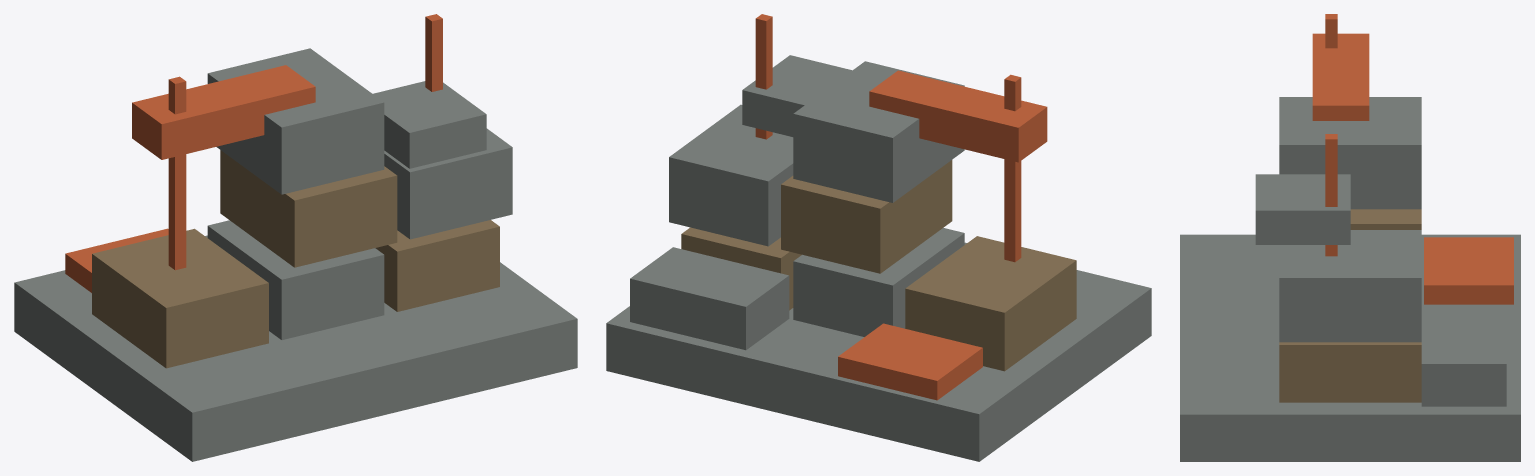
The model's file is base_ruin_1.glb.
The picture shows the model from 3 angles, left to right: view 1: azimuth 30°, elevation 25°; view 2: azimuth 150°, elevation 25°; view 3: azimuth 270°, elevation 25°; orthographic projection. The views are drawn at different scales.
Visible parts, largest first — view 1: footing.001, masonry.008, masonry.015, masonry.012, masonry.009, broken_cap.002, masonry.013, masonry.010, broken_cap.003, rebar.002, loose_brick, rebar.003; view 2: footing.001, masonry.008, masonry.015, masonry.013, masonry.012, fallen_stone.001, broken_cap.002, masonry.009, loose_brick, broken_cap.003, masonry.010, rebar.002 (+1 smaller); view 3: footing.001, masonry.013, masonry.015, masonry.010, fallen_stone.001, broken_cap.003, loose_brick, broken_cap.002, masonry.012, rebar.003, rebar.002.
Part boxes in pixels (bbox=[...]): footing.001: bbox=[14, 235, 577, 461]; masonry.008: bbox=[92, 228, 268, 368]; masonry.015: bbox=[207, 48, 384, 194]; masonry.012: bbox=[220, 150, 397, 267]; masonry.009: bbox=[207, 220, 384, 339]; broken_cap.002: bbox=[132, 65, 315, 159]; masonry.013: bbox=[384, 128, 512, 239]; masonry.010: bbox=[375, 220, 499, 311]; broken_cap.003: bbox=[373, 81, 486, 168]; rebar.002: bbox=[168, 76, 186, 270]; loose_brick: bbox=[65, 228, 168, 292]; rebar.003: bbox=[425, 14, 442, 91]; footing.001: bbox=[606, 242, 1151, 461]; masonry.008: bbox=[905, 236, 1076, 371]; masonry.015: bbox=[793, 61, 964, 202]; masonry.013: bbox=[669, 104, 793, 246]; masonry.012: bbox=[781, 160, 952, 273]; fallen_stone.001: bbox=[630, 247, 789, 350]; broken_cap.002: bbox=[869, 70, 1047, 162]; masonry.009: bbox=[793, 228, 964, 336]; loose_brick: bbox=[838, 323, 982, 400]; broken_cap.003: bbox=[742, 55, 851, 136]; masonry.010: bbox=[681, 227, 801, 310]; rebar.002: bbox=[1004, 74, 1021, 262]; footing.001: bbox=[1180, 234, 1520, 461]; masonry.013: bbox=[1279, 230, 1421, 342]; masonry.015: bbox=[1279, 97, 1421, 209]; masonry.010: bbox=[1279, 342, 1421, 402]; fallen_stone.001: bbox=[1421, 307, 1506, 406]; broken_cap.003: bbox=[1255, 174, 1350, 244]; loose_brick: bbox=[1424, 237, 1513, 304]; broken_cap.002: bbox=[1312, 33, 1369, 120]; masonry.012: bbox=[1350, 209, 1421, 229]; rebar.003: bbox=[1325, 134, 1337, 256]; rebar.002: bbox=[1325, 14, 1337, 48].
Size of the model in its own units: 0.9 by 0.688 by 0.72.
